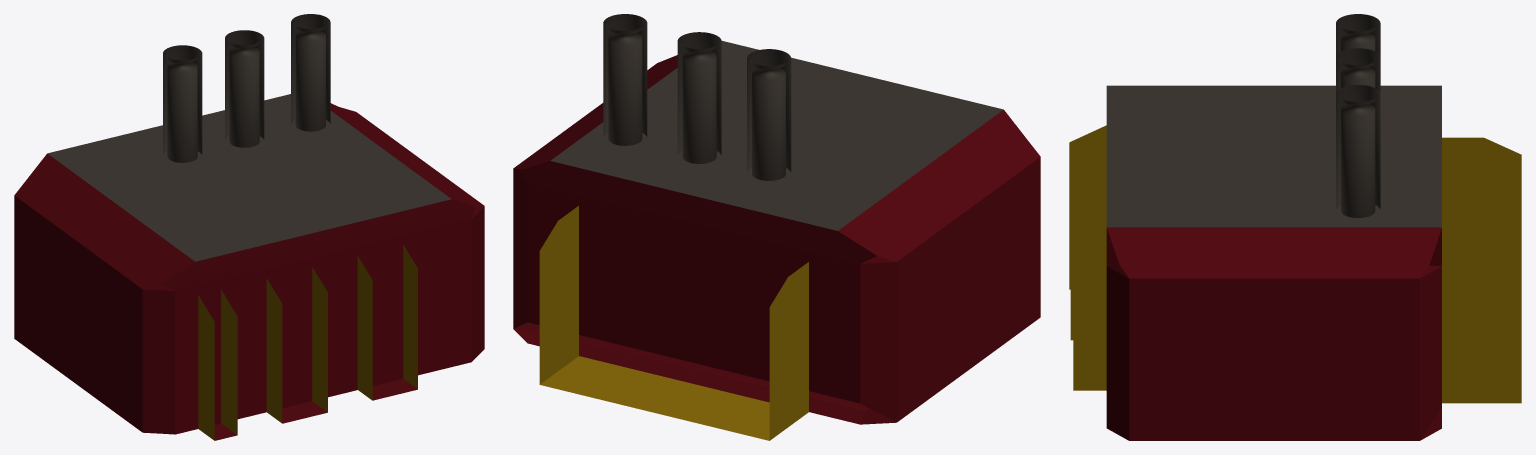
File: hub_red_lvl3.glb
3 views of the same model, side by side, from view 1: azimuth 30°, elevation 25°; view 2: azimuth 150°, elevation 25°; view 3: azimuth 270°, elevation 25° (orthographic). The views are drawn at different scales.
Visible parts, largest first — view 1: Cube, Cylinder.001, Cylinder.003, Cylinder.004; view 2: Cube, Cylinder.003, Cylinder.001, Cylinder.004; view 3: Cube, Cylinder.001, Cylinder.003, Cylinder.004.
Boxes of the visible parts, x1,y1,x2,y2 form: Cube: (14,94,484,440); Cylinder.001: (291,14,330,131); Cylinder.003: (225,30,264,147); Cylinder.004: (163,45,202,162); Cube: (513,41,1040,440); Cylinder.003: (677,32,721,163); Cylinder.001: (603,14,647,145); Cylinder.004: (747,49,791,180); Cube: (1069,85,1521,440); Cylinder.001: (1336,85,1380,217); Cylinder.003: (1336,48,1380,93); Cylinder.004: (1336,14,1380,56).
Bounding box in the file's own units: 8 × 6.3 × 8.09.
